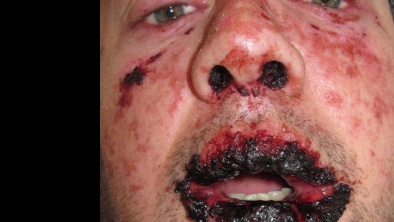SJS-TEN: (98, 0, 394, 222)
